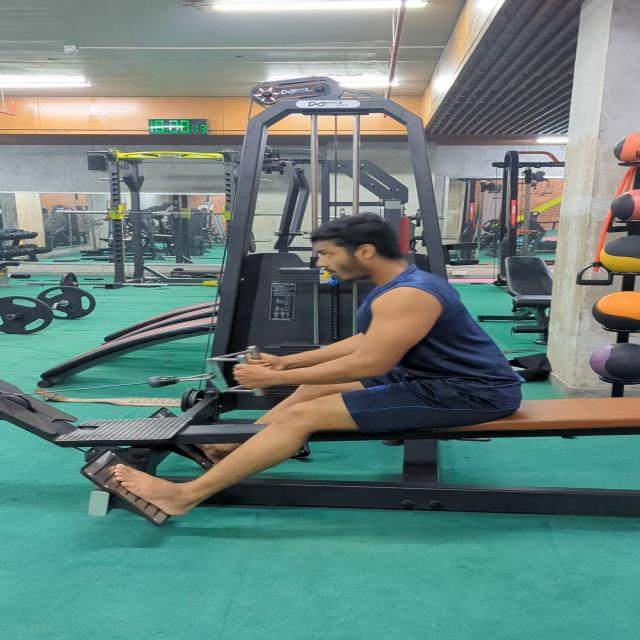Normal_RowingMachineExercise: (112, 211, 527, 517)
